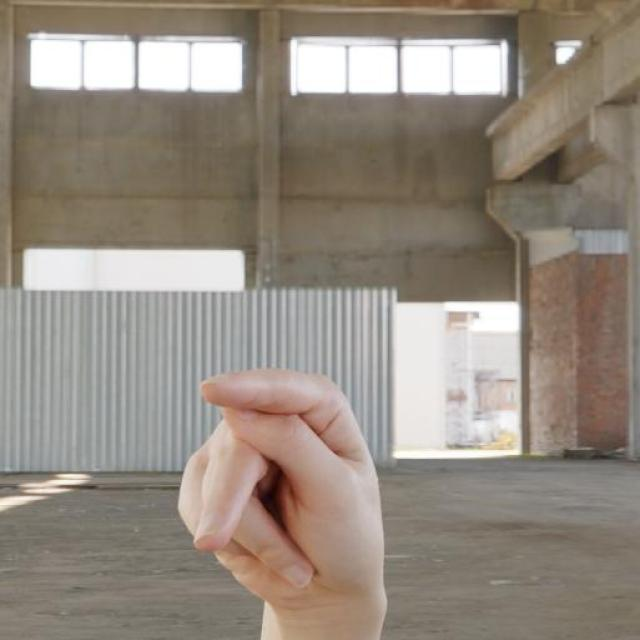P: (175, 364, 389, 617)
